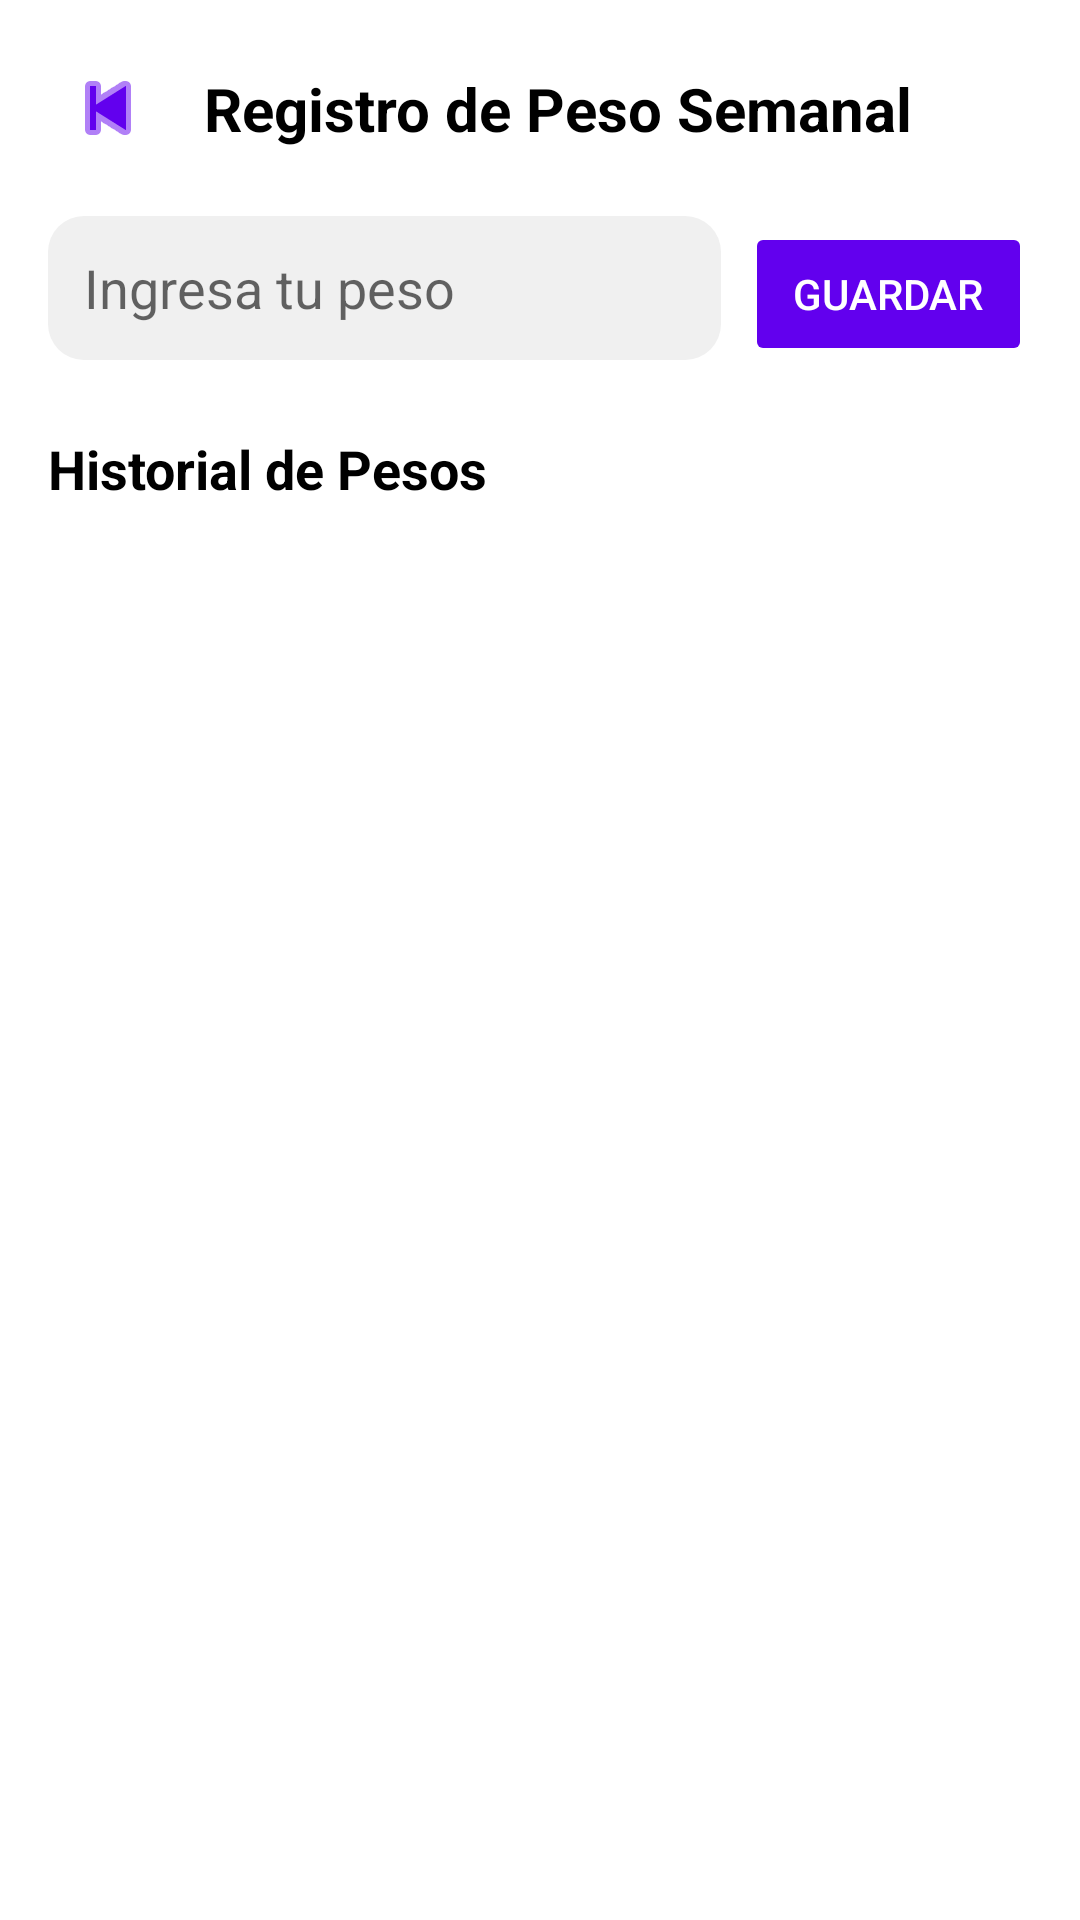

Named icons in this screenshot (1080 x 1920) and their bounding boxes, (x1, y1, x2, y2):
Volver: (85, 81, 131, 135)
